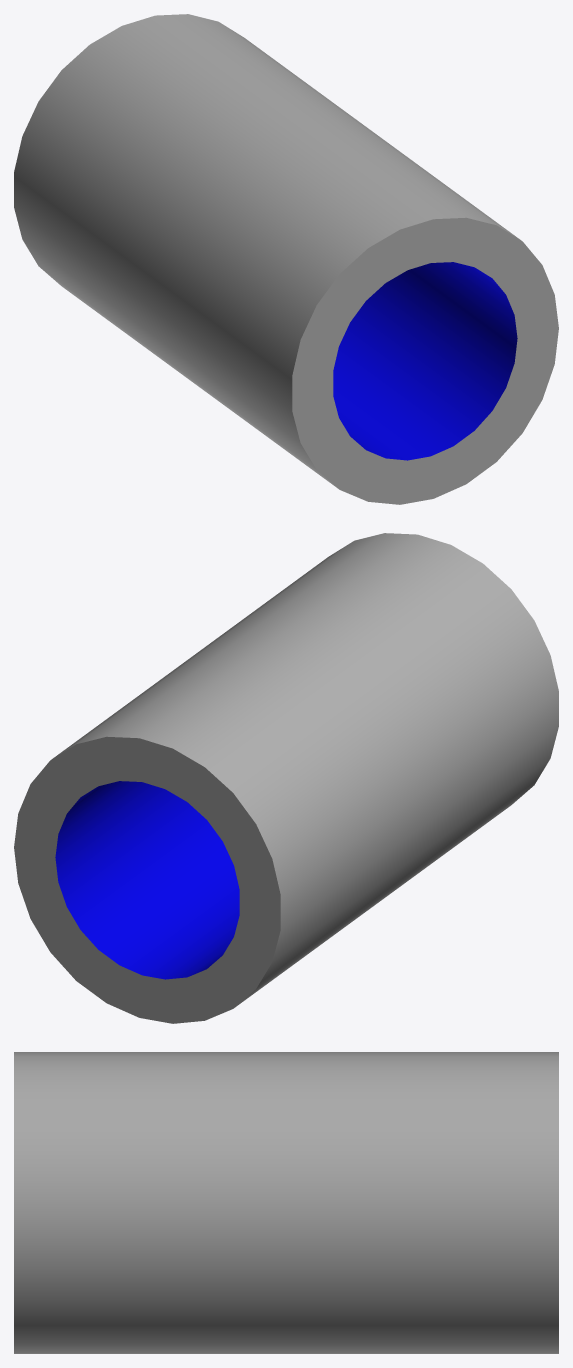
Rendered from Tube_Thin.fbx.
3 views of the same model, one above another, from view 1: azimuth 30°, elevation 25°; view 2: azimuth 150°, elevation 25°; view 3: azimuth 270°, elevation 25° (orthographic). The views are drawn at different scales.
Visible parts, largest first — view 1: pasted__RingBig; view 2: pasted__RingBig; view 3: pasted__RingBig.
Boxes of the visible parts, x1,y1,x2,y2 form: pasted__RingBig: (14, 14, 558, 504); pasted__RingBig: (14, 533, 558, 1023); pasted__RingBig: (14, 1052, 558, 1353).
Size of the model in its own units: 1.65 by 1.65 by 2.98.
